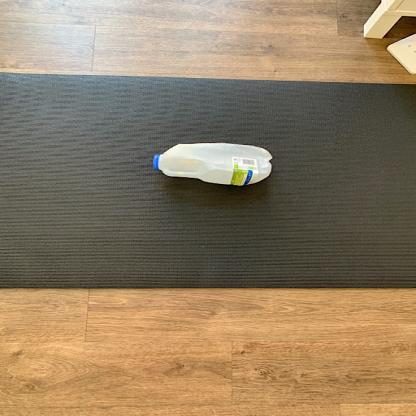trash: (153, 141, 276, 188)
